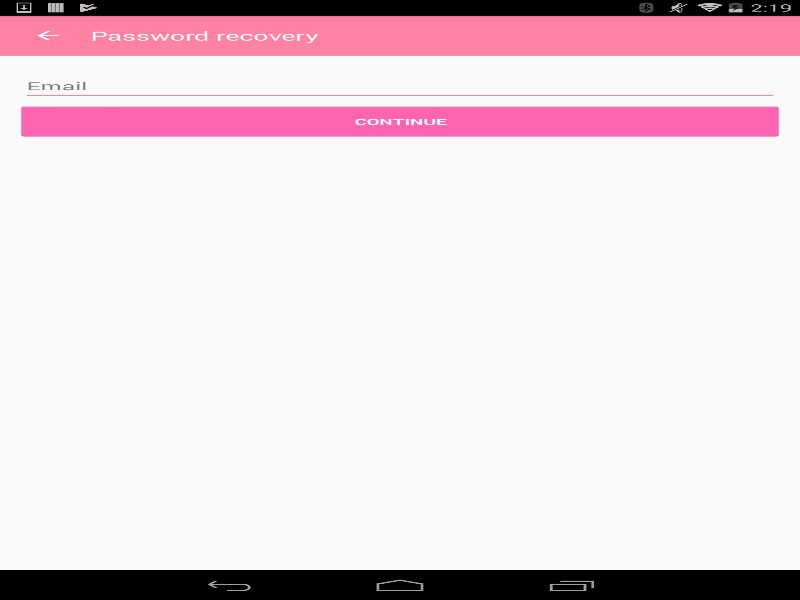Button: (21, 106, 778, 136), (10, 15, 85, 55)
Input: (21, 71, 778, 100)
